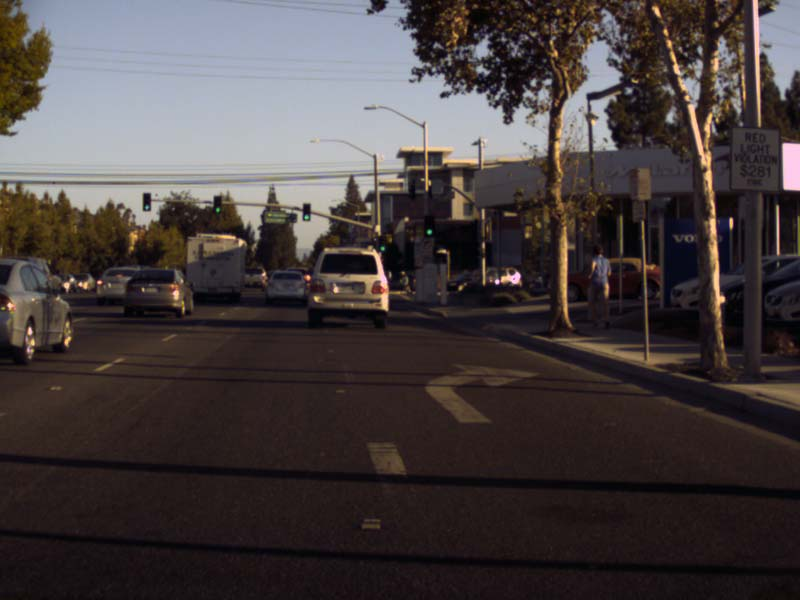Green: (422, 213, 433, 236), (141, 189, 150, 211), (212, 193, 221, 213), (302, 203, 310, 221), (378, 236, 386, 252)
